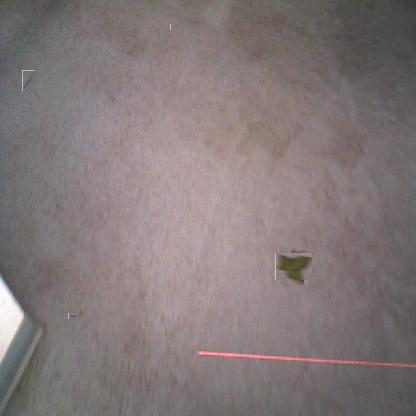dirty: (278, 250, 310, 283)
mark: (322, 188, 352, 226), (22, 70, 35, 91), (128, 29, 140, 41), (69, 313, 77, 320), (171, 24, 178, 31)
